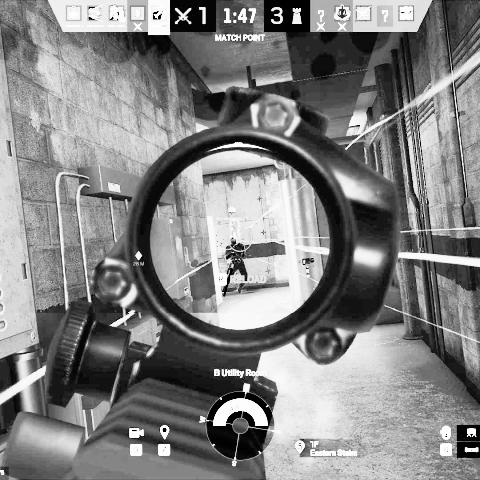Character: (220, 236, 251, 297)
Friend_label: (216, 206, 249, 221)
Head: (230, 236, 237, 246)
